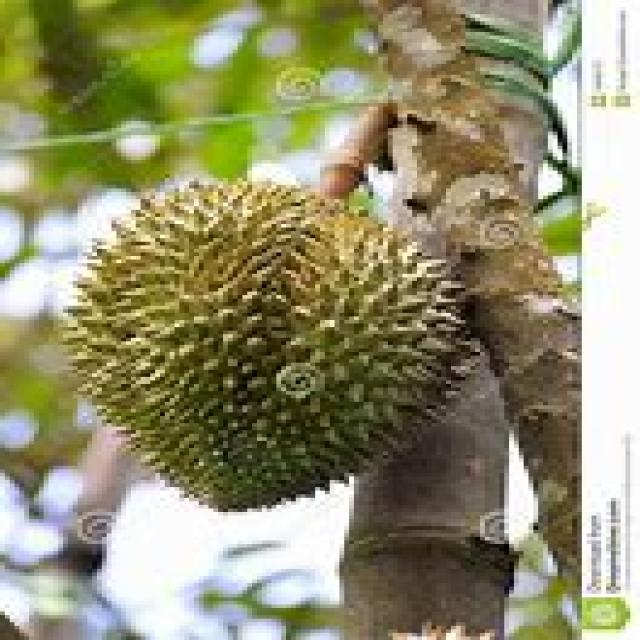mature: (65, 182, 479, 510)
